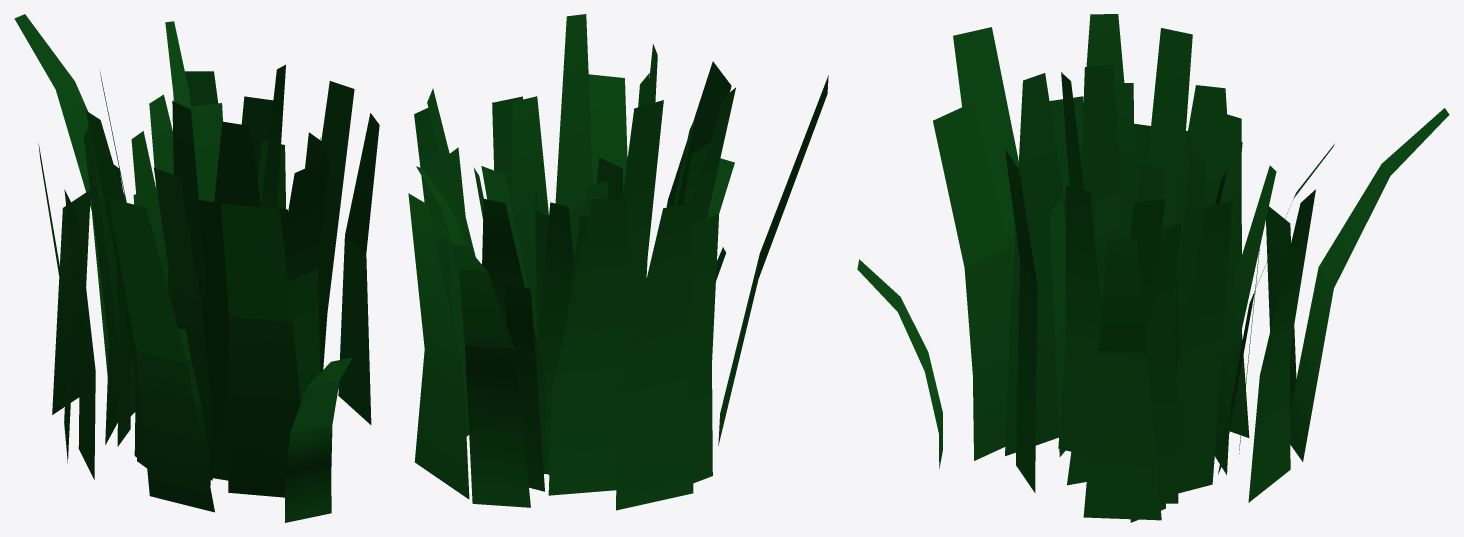
The model's file is Weeds2.fbx.
3 renders of one model, left to right at view 1: azimuth 30°, elevation 25°; view 2: azimuth 150°, elevation 25°; view 3: azimuth 270°, elevation 25°, orthographic.
Visible parts, largest first — view 1: rq54; view 2: rq54; view 3: rq54.
Boxes of the visible parts, x1=… form: rq54: x1=14, y1=14, x2=379, y2=522; rq54: x1=408, y1=14, x2=828, y2=510; rq54: x1=857, y1=14, x2=1449, y2=522.
Size of the model in its own units: 31.11 by 37.89 by 47.38.
